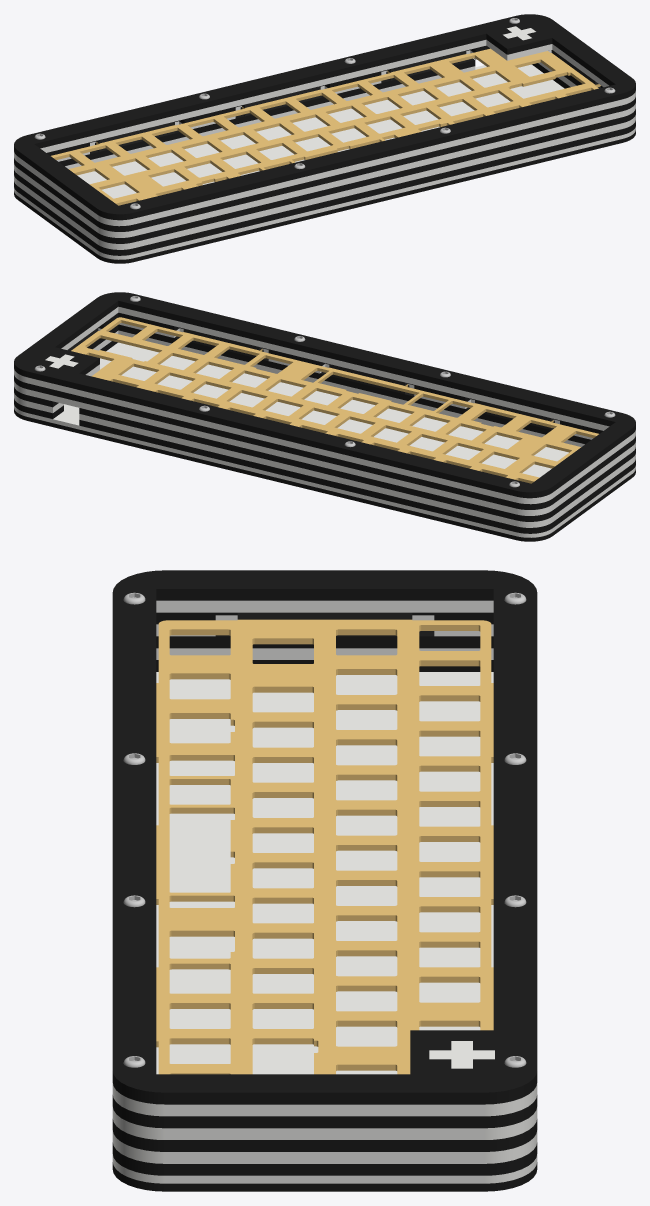
The model's file is the plus acrylic with screws v2.fbx.
The picture shows the model from 3 angles, top to bottom: view 1: azimuth 30°, elevation 25°; view 2: azimuth 150°, elevation 25°; view 3: azimuth 270°, elevation 25°; orthographic projection. The views are drawn at different scales.
Visible parts, largest first — view 1: layer 1, plate, layer 8, layer 2, layer 5, layer 6, layer 3, layer 4, layer 7, layer 9; view 2: layer 1, plate, layer 8, layer 2, layer 5, layer 6, layer 3, layer 4, layer 7, layer 9; view 3: plate, layer 1, layer 8, layer 2, layer 5, layer 6, layer 3, layer 4, layer 7, layer 9, gasket 16, plus decal insert.
Boxes of the visible parts, x1,y1,x2,y2 form: layer 1: [14, 14, 635, 220]; plate: [51, 48, 600, 205]; layer 8: [14, 64, 635, 259]; layer 2: [14, 39, 635, 226]; layer 5: [14, 58, 635, 243]; layer 6: [14, 62, 635, 249]; layer 3: [14, 45, 635, 231]; layer 4: [14, 50, 635, 237]; layer 7: [14, 63, 635, 255]; layer 9: [14, 130, 635, 263]; layer 1: [14, 292, 635, 498]; plate: [71, 317, 598, 483]; layer 8: [14, 342, 635, 537]; layer 2: [14, 306, 635, 504]; layer 5: [14, 324, 635, 521]; layer 6: [14, 330, 635, 527]; layer 3: [14, 312, 635, 509]; layer 4: [14, 323, 635, 515]; layer 7: [14, 341, 635, 533]; layer 9: [14, 408, 635, 541]; plate: [156, 619, 493, 1074]; layer 1: [112, 570, 537, 1104]; layer 8: [112, 672, 537, 1183]; layer 2: [112, 600, 537, 1116]; layer 5: [112, 631, 537, 1151]; layer 6: [112, 648, 537, 1163]; layer 3: [112, 612, 537, 1128]; layer 4: [112, 615, 537, 1139]; layer 7: [112, 660, 537, 1175]; layer 9: [112, 1162, 537, 1191]; gasket 16: [237, 612, 412, 619]; plus decal insert: [429, 1041, 494, 1068].
Size of the model in its own units: 283 by 26 by 97.2.
